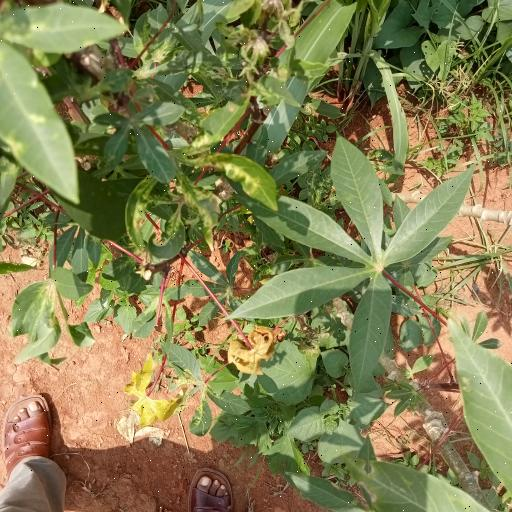Cassava_Healthy: (246, 141, 462, 387)
